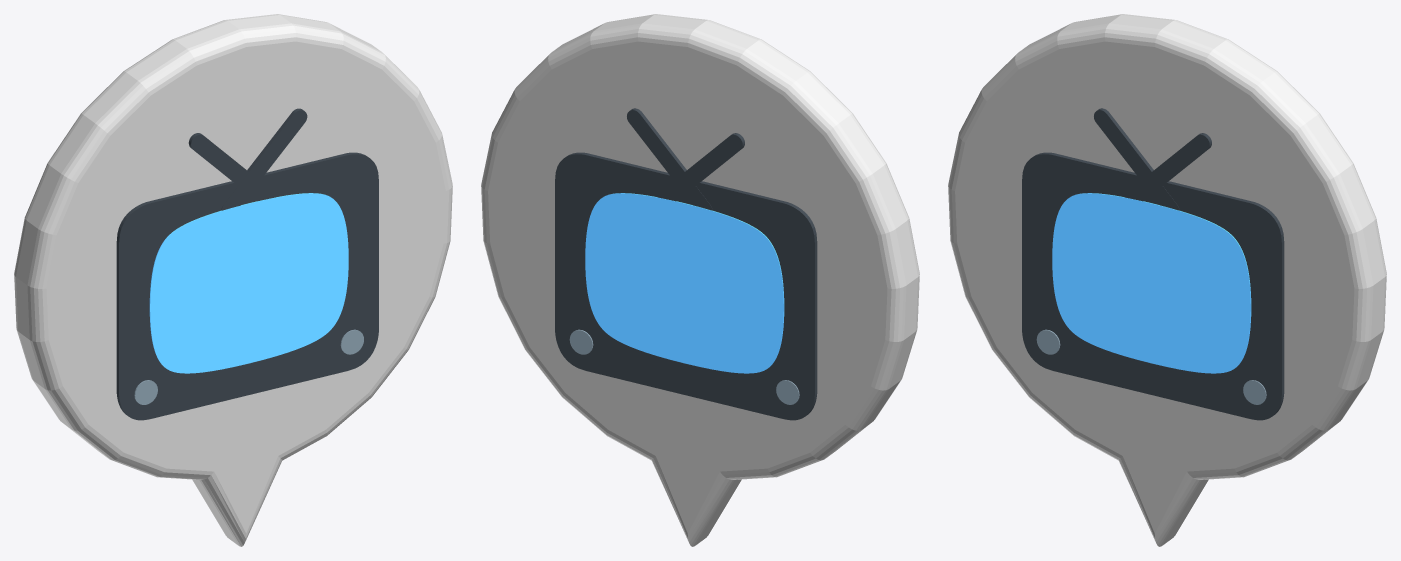
The picture shows the model from 3 angles, left to right: view 1: azimuth 30°, elevation 25°; view 2: azimuth 150°, elevation 25°; view 3: azimuth 330°, elevation 25°; orthographic projection.
Parts seen in each view (by area): view 1: EmotionBubble; view 2: EmotionBubble; view 3: EmotionBubble.
Part boxes in pixels (box(x1,y1,x2,y2)): EmotionBubble: box(14, 14, 452, 546); EmotionBubble: box(481, 14, 919, 546); EmotionBubble: box(948, 14, 1386, 546).
Size of the model in its own units: 5.29 by 6.16 by 0.7.
